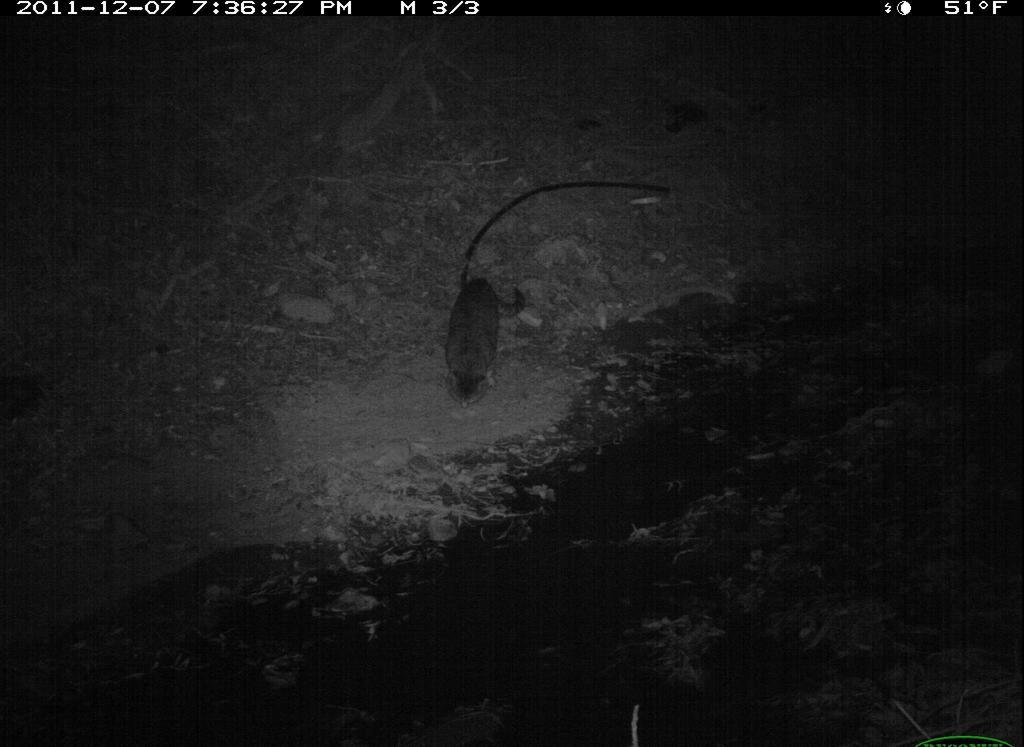cat: (427, 263, 534, 410)
